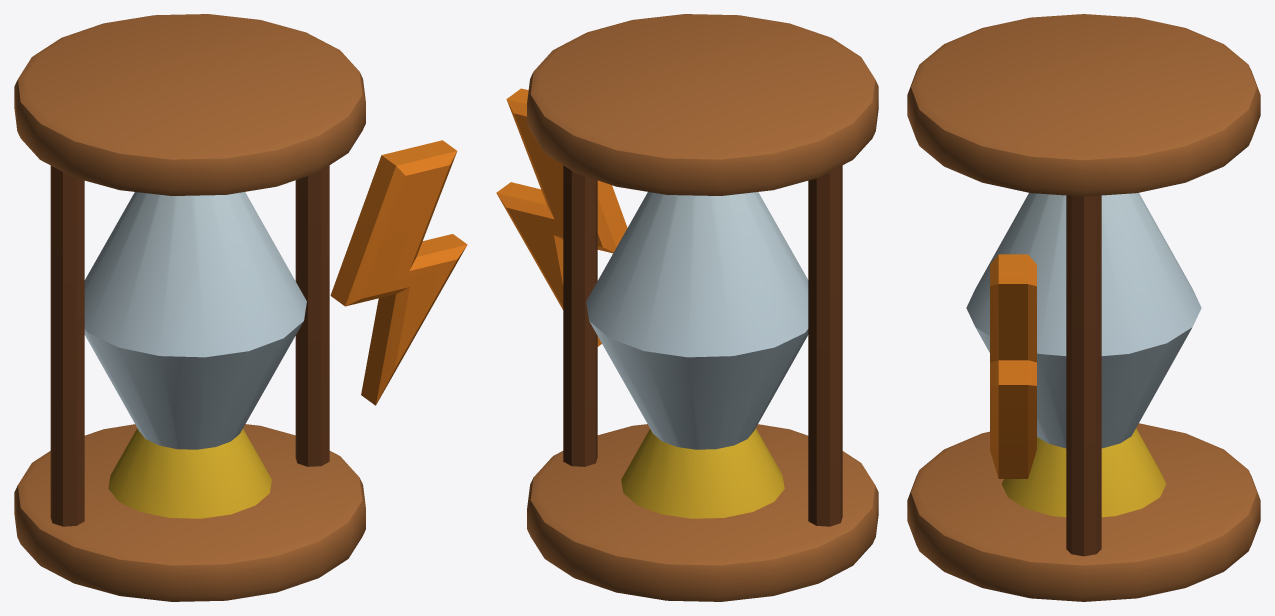
The model's file is ui_boost.glb.
3 views of the same model, side by side, from view 1: azimuth 30°, elevation 25°; view 2: azimuth 150°, elevation 25°; view 3: azimuth 270°, elevation 25° (orthographic).
Visible parts, largest first — view 1: body; view 2: body; view 3: body.
Part boxes in pixels (x1,y1,x2,y2): body: (14, 14, 467, 601); body: (496, 14, 878, 601); body: (907, 14, 1260, 601).
Bounding box in the file's own units: 0.38 × 0.42 × 0.3.
